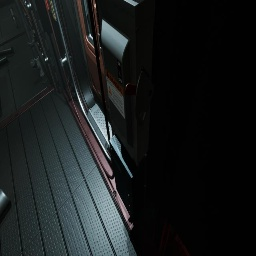EmergencyPhone ,: (47, 0, 58, 22)
FireAlarm ,: (46, 0, 51, 10)
NitrogenTank ,: (0, 189, 11, 219)
SafetySwitchPanel ,: (96, 0, 155, 167)
